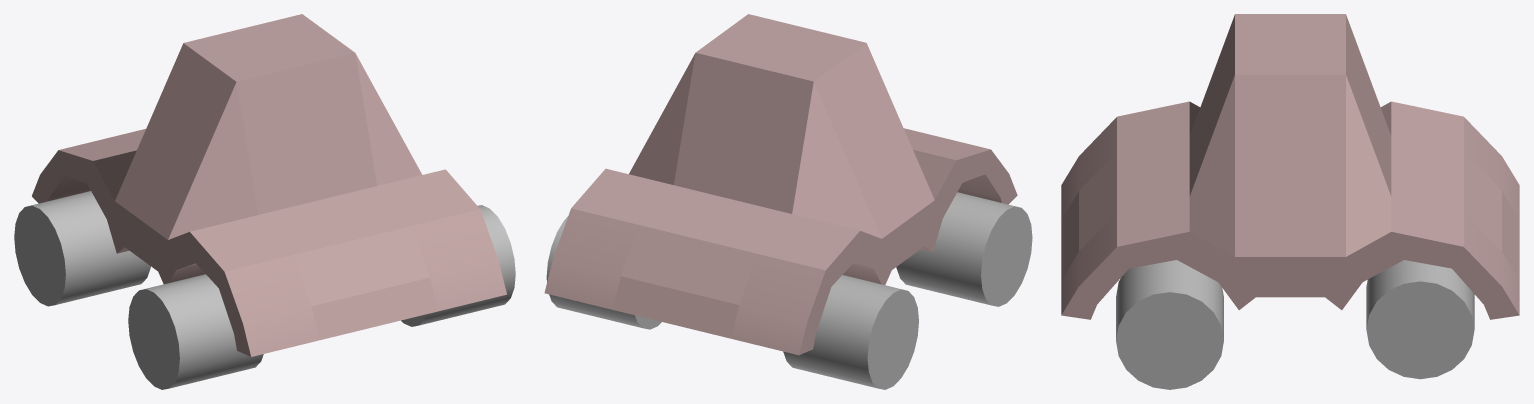
Rendered from weiyu_car.glb.
The picture shows the model from 3 angles, left to right: view 1: azimuth 30°, elevation 25°; view 2: azimuth 150°, elevation 25°; view 3: azimuth 270°, elevation 25°; orthographic projection. The views are drawn at different scales.
Visible parts, largest first — view 1: pCylinder1; view 2: pCylinder1; view 3: pCylinder1.
Boxes of the visible parts, box(x1,y1,x2,y2) form: pCylinder1: box(14, 14, 515, 389); pCylinder1: box(544, 14, 1032, 389); pCylinder1: box(1061, 14, 1519, 389).
Size of the model in its own units: 0.3724 by 0.2728 by 0.4244.
